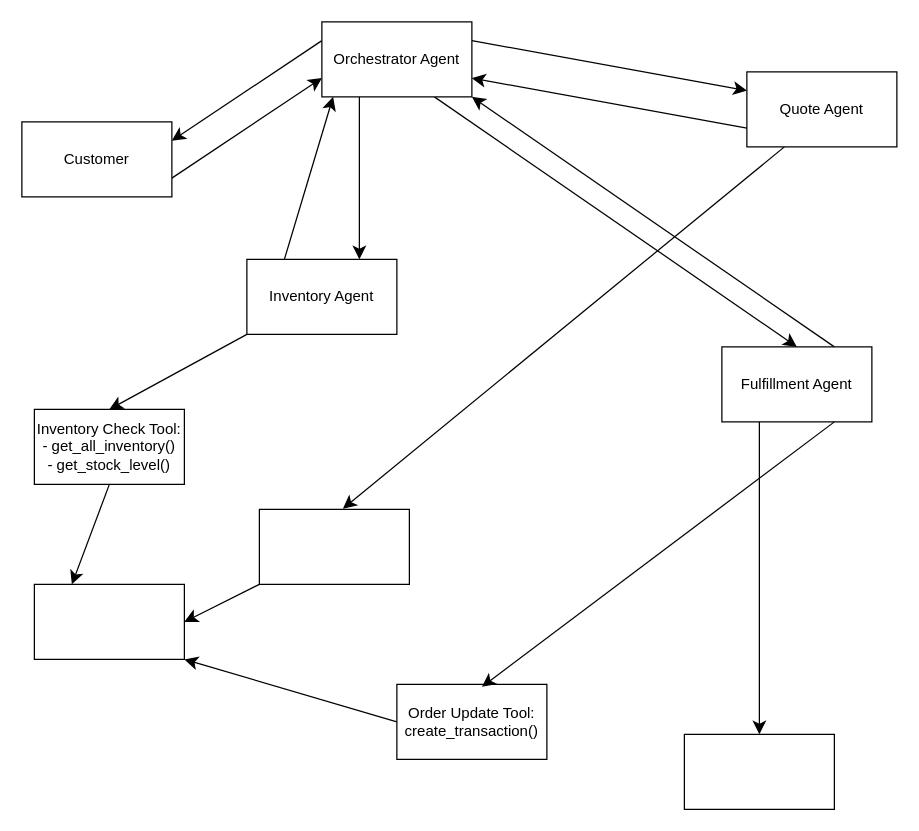
Some shapes in this 919 by 831 pixel diagram are drawn without their labels. The shapes that lost their labels are listed below. From the top down, each one's centre as x and y in pixels, then its label:
At point 333,546: "Quote history lookup tool: search_quote_history()".
At point 108,621: "Company Database".
At point 758,771: "Supplier Delivery Tool: get_supplier_delivery_date()".
